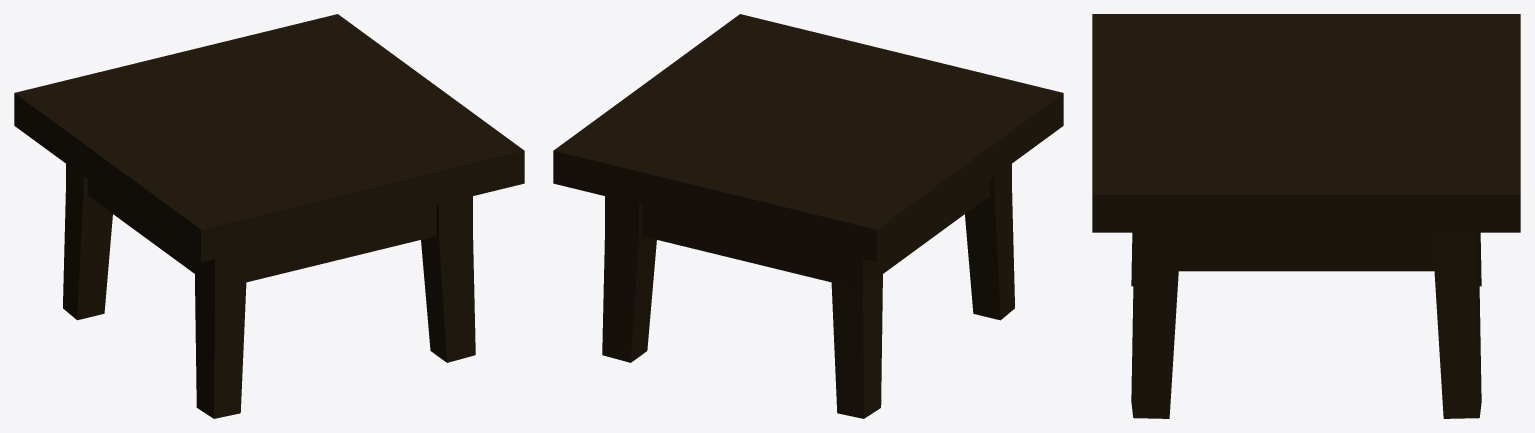
File: table.glb
3 renders of one model, left to right at view 1: azimuth 30°, elevation 25°; view 2: azimuth 150°, elevation 25°; view 3: azimuth 270°, elevation 25°, orthographic. The views are drawn at different scales.
Parts seen in each view (by area): view 1: Table; view 2: Table; view 3: Table.
Boxes of the visible parts, x1=… form: Table: x1=14, y1=14, x2=524, y2=418; Table: x1=553, y1=14, x2=1063, y2=418; Table: x1=1092, y1=14, x2=1520, y2=418.
Size of the model in its own units: 0.9457 by 0.5867 by 0.9457.
